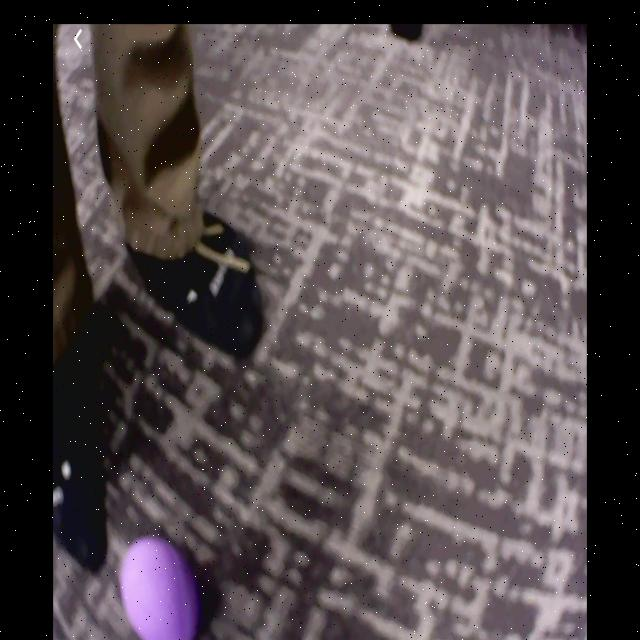ball: (122, 536, 201, 640)
